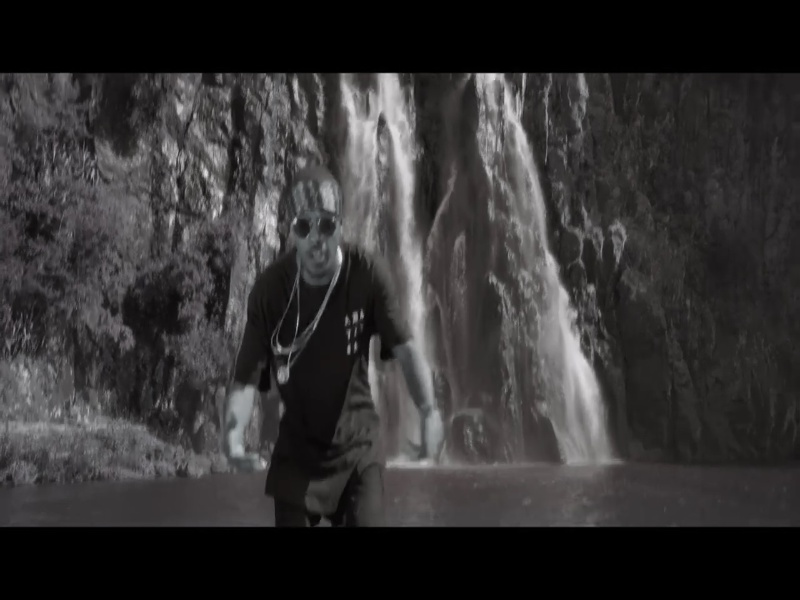TsisyArotava: (272, 171, 365, 296)
